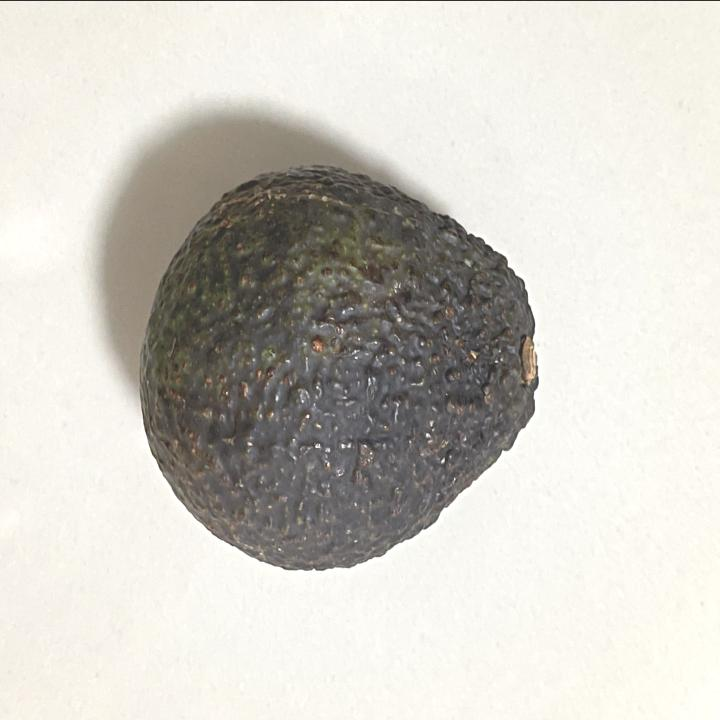Level1: (130, 152, 550, 588)
